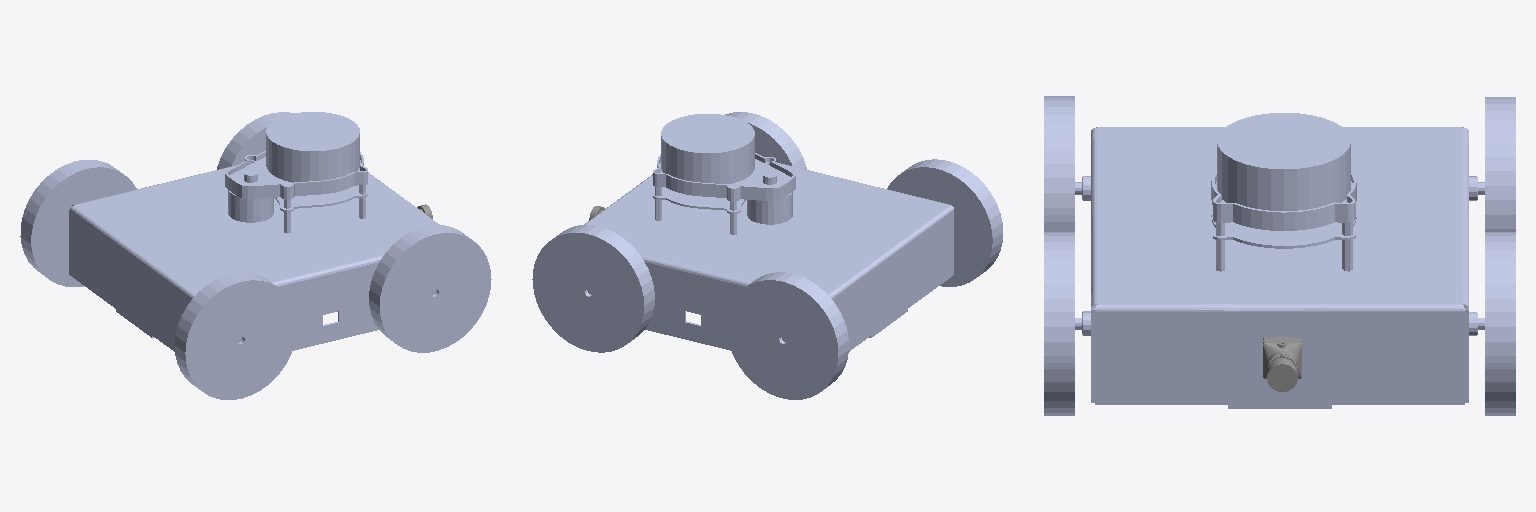
robot.urdf — robot_agv:
<?xml version="1.0" encoding="utf-8"?>
<!-- This URDF was automatically created by SolidWorks to URDF Exporter! Originally created by [author] ([email redacted]) 
     Commit Version: 1.6.0-4-g7f85cfe  Build Version: 1.6.7995.38578
     For more information, please see http://wiki.ros.org/sw_urdf_exporter -->
<robot
  name="robot_agv">
  <link
    name="base_link">
    <inertial>
      <origin
        xyz="-4.50968266915222E-05 -4.35308039614668E-13 -0.0197136601969749"
        rpy="0 0 0" />
      <mass
        value="0.489034358952568" />
      <inertia
        ixx="0.000921386087712042"
        ixy="1.54892273351734E-12"
        ixz="8.99166324549194E-08"
        iyy="0.000914602218706382"
        iyz="7.7311999509303E-09"
        izz="0.00169182386938637" />
    </inertial>
    <visual>
      <origin
        xyz="0 0 0"
        rpy="0 0 0" />
      <geometry>
        <mesh
          filename="package://robot_agv/meshes/base_link.STL" />
      </geometry>
      <material
        name="">
        <color
          rgba="0.792156862745098 0.819607843137255 0.933333333333333 1" />
      </material>
    </visual>
    <collision>
      <origin
        xyz="0 0 0"
        rpy="0 0 0" />
      <geometry>
        <mesh
          filename="package://robot_agv/meshes/base_link.STL" />
      </geometry>
    </collision>
  </link>
  <link
    name="link_TP">
    <inertial>
      <origin
        xyz="3.88578058618805E-16 1.87350135405495E-16 -0.00750000000000017"
        rpy="0 0 0" />
      <mass
        value="0.0950017618445553" />
      <inertia
        ixx="5.00896789325418E-05"
        ixy="3.89570784494416E-37"
        ixz="-4.23516473627149E-22"
        iyy="5.00896789325418E-05"
        iyz="-1.18381694266161E-37"
        izz="9.66167917959127E-05" />
    </inertial>
    <visual>
      <origin
        xyz="0 0 0"
        rpy="0 0 0" />
      <geometry>
        <mesh
          filename="package://robot_agv/meshes/link_TP.STL" />
      </geometry>
      <material
        name="">
        <color
          rgba="0.792156862745098 0.819607843137255 0.933333333333333 1" />
      </material>
    </visual>
    <collision>
      <origin
        xyz="0 0 0"
        rpy="0 0 0" />
      <geometry>
        <mesh
          filename="package://robot_agv/meshes/link_TP.STL" />
      </geometry>
    </collision>
  </link>
  <joint
    name="joint_TP"
    type="continuous">
    <origin
      xyz="0.0711464466081992 -0.100000000000508 -0.0230000000015247"
      rpy="-1.57079632681698 0 0" />
    <parent
      link="base_link" />
    <child
      link="link_TP" />
    <axis
      xyz="0 0 1" />
    <dynamics
      damping="0.1"
      friction="0.1" />
  </joint>
  <link
    name="link_TT">
    <inertial>
      <origin
        xyz="5.82867087928207E-16 1.94289029309402E-16 0.00749999999999981"
        rpy="0 0 0" />
      <mass
        value="0.0950017618445552" />
      <inertia
        ixx="5.00896789325417E-05"
        ixy="-3.8959993982459E-37"
        ixz="-1.33359302107442E-36"
        iyy="5.00896789325417E-05"
        iyz="-7.14594954479365E-38"
        izz="9.66167917959126E-05" />
    </inertial>
    <visual>
      <origin
        xyz="0 0 0"
        rpy="0 0 0" />
      <geometry>
        <mesh
          filename="package://robot_agv/meshes/link_TT.STL" />
      </geometry>
      <material
        name="">
        <color
          rgba="0.792156862745098 0.819607843137255 0.933333333333333 1" />
      </material>
    </visual>
    <collision>
      <origin
        xyz="0 0 0"
        rpy="0 0 0" />
      <geometry>
        <mesh
          filename="package://robot_agv/meshes/link_TT.STL" />
      </geometry>
    </collision>
  </link>
  <joint
    name="joint_TT"
    type="continuous">
    <origin
      xyz="0.071146446608199 0.0999999999994926 -0.023000000005942"
      rpy="-1.57079632681698 0 0" />
    <parent
      link="base_link" />
    <child
      link="link_TT" />
    <axis
      xyz="0 0 1" />
    <dynamics
      damping="0.1"
      friction="0.1" />
  </joint>
  <link
    name="link_ST">
    <inertial>
      <origin
        xyz="8.60422844084496E-16 -4.37150315946155E-16 0.00750000000000003"
        rpy="0 0 0" />
      <mass
        value="0.0950017618445552" />
      <inertia
        ixx="5.00896789325417E-05"
        ixy="0"
        ixz="1.64808506129101E-19"
        iyy="5.00896789325417E-05"
        iyz="-6.27560060914619E-20"
        izz="9.66167917959126E-05" />
    </inertial>
    <visual>
      <origin
        xyz="0 0 0"
        rpy="0 0 0" />
      <geometry>
        <mesh
          filename="package://robot_agv/meshes/link_ST.STL" />
      </geometry>
      <material
        name="">
        <color
          rgba="0.792156862745098 0.819607843137255 0.933333333333333 1" />
      </material>
    </visual>
    <collision>
      <origin
        xyz="0 0 0"
        rpy="0 0 0" />
      <geometry>
        <mesh
          filename="package://robot_agv/meshes/link_ST.STL" />
      </geometry>
    </collision>
  </link>
  <joint
    name="joint_ST"
    type="continuous">
    <origin
      xyz="-0.0851464466106142 0.0999999999994928 -0.0229999999977417"
      rpy="-1.57079632681907 0.418974378731321 0" />
    <parent
      link="base_link" />
    <child
      link="link_ST" />
    <axis
      xyz="0 0 1" />
    <dynamics
      damping="0.1"
      friction="0.1" />
  </joint>
  <link
    name="link_SP">
    <inertial>
      <origin
        xyz="-1.38777878078145E-17 0 -0.00750000000000034"
        rpy="0 0 0" />
      <mass
        value="0.0950017618445553" />
      <inertia
        ixx="5.00896789325418E-05"
        ixy="4.2351647362715E-22"
        ixz="1.65371556088239E-19"
        iyy="5.00896789325418E-05"
        iyz="8.93750773687191E-21"
        izz="9.66167917959127E-05" />
    </inertial>
    <visual>
      <origin
        xyz="0 0 0"
        rpy="0 0 0" />
      <geometry>
        <mesh
          filename="package://robot_agv/meshes/link_SP.STL" />
      </geometry>
      <material
        name="">
        <color
          rgba="0.792156862745098 0.819607843137255 0.933333333333333 1" />
      </material>
    </visual>
    <collision>
      <origin
        xyz="0 0 0"
        rpy="0 0 0" />
      <geometry>
        <mesh
          filename="package://robot_agv/meshes/link_SP.STL" />
      </geometry>
    </collision>
  </link>
  <joint
    name="joint_SP"
    type="continuous">
    <origin
      xyz="-0.085146446610614 -0.100000000000507 -0.0229999999933239"
      rpy="-1.57079632681722 -0.146106215270251 0" />
    <parent
      link="base_link" />
    <child
      link="link_SP" />
    <axis
      xyz="0 0 1" />
    <dynamics
      damping="0.1"
      friction="0.1" />
  </joint>
  <link
    name="link_lidar">
    <inertial>
      <origin
        xyz="0.0107513089133826 -1.34961486430996E-14 0.01070114222303"
        rpy="0 0 0" />
      <mass
        value="0.146695752132548" />
      <inertia
        ixx="6.22721120798138E-05"
        ixy="-6.43517984395555E-18"
        ixz="-1.8865807633984E-05"
        iyy="0.00010967399759166"
        iyz="-2.12237100743264E-16"
        izz="0.000125682524276445" />
    </inertial>
    <visual>
      <origin
        xyz="0 0 0"
        rpy="0 0 0" />
      <geometry>
        <mesh
          filename="package://robot_agv/meshes/link_lidar.STL" />
      </geometry>
      <material
        name="">
        <color
          rgba="0.792156862745098 0.819607843137255 0.933333333333333 1" />
      </material>
    </visual>
    <collision>
      <origin
        xyz="0 0 0"
        rpy="0 0 0" />
      <geometry>
        <mesh
          filename="package://robot_agv/meshes/link_lidar.STL" />
      </geometry>
    </collision>
  </link>
  <joint
    name="joint_lidar"
    type="fixed">
    <origin
      xyz="0.0211221138956228 0.00200000000064026 0.0289999999988475"
      rpy="0 0 0" />
    <parent
      link="base_link" />
    <child
      link="link_lidar" />
    <axis
      xyz="0 0 0" />
    <limit
      lower="0"
      upper="0"
      effort="0"
      velocity="0" />
  </joint>
  <link
    name="link_camera">
    <inertial>
      <origin
        xyz="0.00458648494818011 2.01626661366257E-05 3.80160095715988E-05"
        rpy="0 0 0" />
      <mass
        value="0.00436250529984364" />
      <inertia
        ixx="1.77782664708891E-07"
        ixy="5.91438042649722E-12"
        ixz="1.30757112180239E-11"
        iyy="2.52020148511155E-07"
        iyz="1.17624939619964E-09"
        izz="2.52619960333893E-07" />
    </inertial>
    <visual>
      <origin
        xyz="0 0 0"
        rpy="0 0 0" />
      <geometry>
        <mesh
          filename="package://robot_agv/meshes/link_camera.STL" />
      </geometry>
      <material
        name="">
        <color
          rgba="0.627450980392157 0.627450980392157 0.627450980392157 1" />
      </material>
    </visual>
    <collision>
      <origin
        xyz="0 0 0"
        rpy="0 0 0" />
      <geometry>
        <mesh
          filename="package://robot_agv/meshes/link_camera.STL" />
      </geometry>
    </collision>
  </link>
  <joint
    name="joint_camera"
    type="fixed">
    <origin
      xyz="0.111799999998736 0.00120165214283002 -0.0240925411033633"
      rpy="-1.57079632681698 0 0" />
    <parent
      link="base_link" />
    <child
      link="link_camera" />
    <axis
      xyz="0 0 0" />
  </joint>
</robot>

--- Facts derived from the render (not from the file) ---
Views: 3 orthographic renders of the robot side by side, from view 1: azimuth 30°, elevation 25°; view 2: azimuth 150°, elevation 25°; view 3: azimuth 270°, elevation 25°.
Model robot_agv with 7 links and 6 joints (4 continuous, 2 fixed), rooted at base_link, posed every joint at zero.
Visible links, largest first — view 1: base_link, link_TP, link_SP, link_lidar, link_ST, link_TT; view 2: base_link, link_ST, link_TT, link_lidar, link_SP, link_TP; view 3: base_link, link_lidar, link_TP, link_TT, link_SP, link_ST, link_camera.
Boxes of the visible links, left/top/right/bottom form: base_link: left=69, top=165, right=439, bottom=351; link_TP: left=369, top=225, right=491, bottom=352; link_SP: left=175, top=272, right=296, bottom=399; link_lidar: left=225, top=112, right=367, bottom=233; link_ST: left=20, top=160, right=136, bottom=286; link_TT: left=217, top=112, right=293, bottom=169; base_link: left=584, top=162, right=953, bottom=351; link_ST: left=727, top=272, right=848, bottom=399; link_TT: left=532, top=225, right=654, bottom=352; link_lidar: left=653, top=114, right=795, bottom=234; link_SP: left=887, top=159, right=1002, bottom=286; link_TP: left=725, top=112, right=806, bottom=169; base_link: left=1075, top=127, right=1484, bottom=408; link_lidar: left=1211, top=113, right=1356, bottom=271; link_TP: left=1044, top=232, right=1074, bottom=415; link_TT: left=1485, top=232, right=1515, bottom=415; link_SP: left=1044, top=96, right=1074, bottom=231; link_ST: left=1485, top=97, right=1515, bottom=231; link_camera: left=1263, top=337, right=1301, bottom=391.
Bounding box of the posed robot: 0.2618 × 0.23 × 0.129 m (x, y, z).
Meshes: 7 distinct files referenced, 7 mesh visuals loaded (7 binary STL).